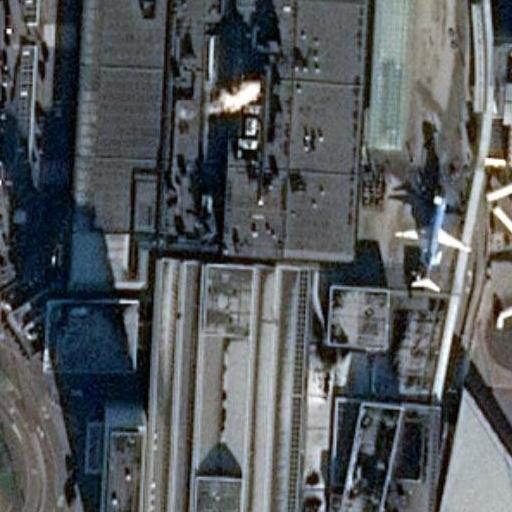Aircraft: (390, 191, 469, 291), (495, 224, 512, 380)
